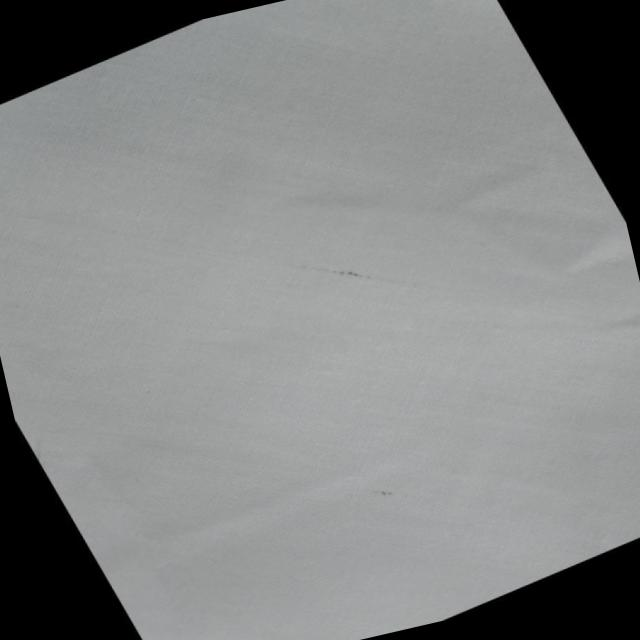contamination: (276, 218, 424, 330), (362, 478, 402, 508)
